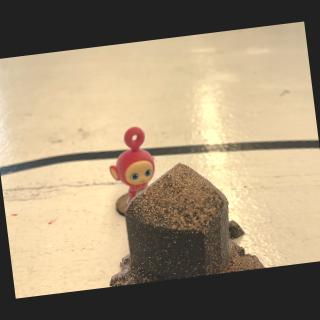teletubby: (110, 127, 155, 203)
